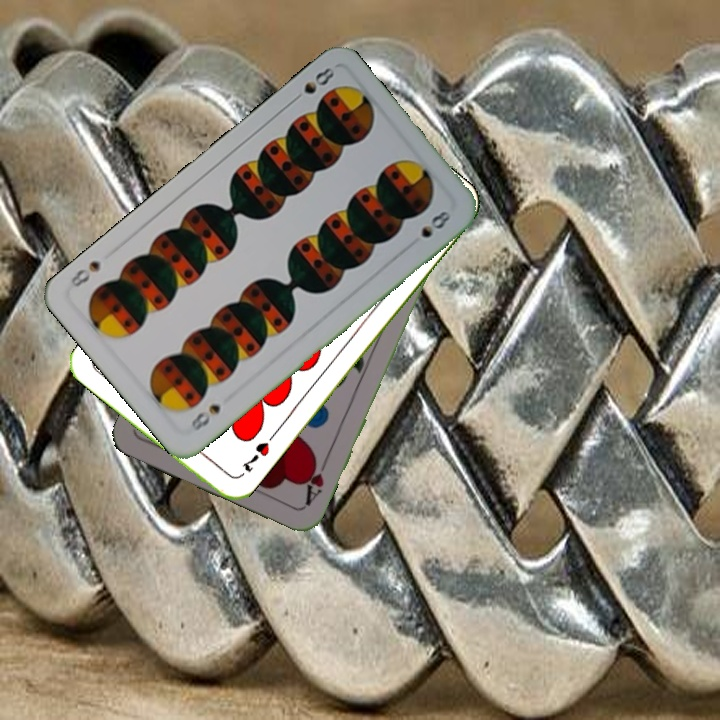H7: (237, 438, 272, 475)
HA: (300, 452, 331, 509)
S8: (287, 63, 338, 106), (186, 400, 224, 435)
